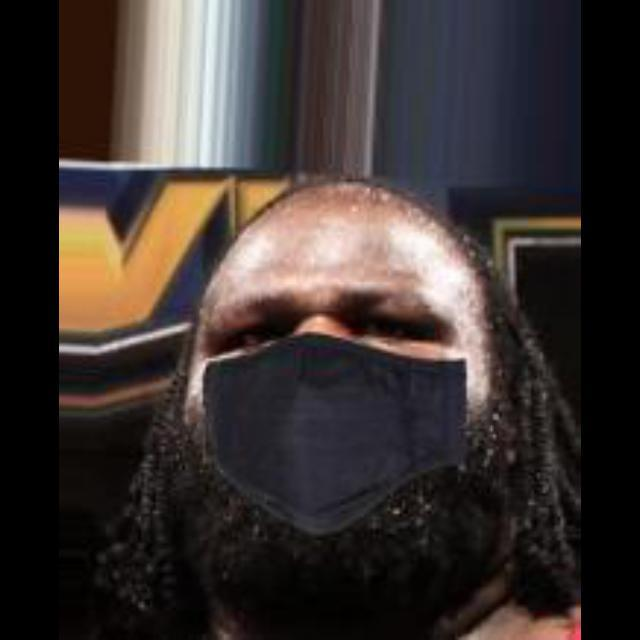suspicion: (189, 170, 526, 560)
